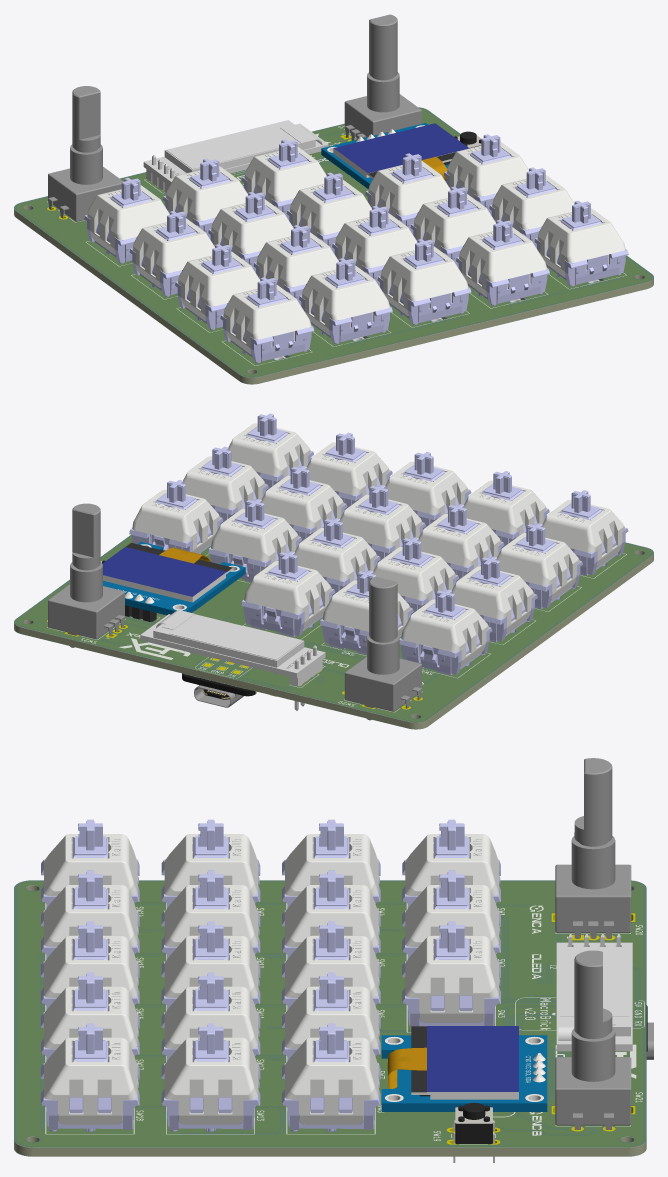
File: MacroBoard_v2.0.glb
The picture shows the model from 3 angles, top to bottom: view 1: azimuth 30°, elevation 25°; view 2: azimuth 150°, elevation 25°; view 3: azimuth 270°, elevation 25°; orthographic projection. The views are drawn at different scales.
Visible parts, largest first — view 1: Lid:1 (×18), =>[0:1:1:76], Stem:1 (×18), =>[0:1:1:73], =>[0:1:1:11] (×2), Housing:1 (×8), =>[0:1:1:78], =>[0:1:1:15], screen:1, board:1, =>[0:1:1:74]; view 2: Lid:1 (×18), =>[0:1:1:76], Stem:1 (×17), =>[0:1:1:73], =>[0:1:1:11] (×2), Housing:1 (×8), =>[0:1:1:15], =>[0:1:1:78], screen:1, board:1, =>[0:1:1:74], type-c v2:1 (+1 smaller); view 3: Lid:1 (×18), =>[0:1:1:76], =>[0:1:1:73], Stem:1 (×18), =>[0:1:1:11] (×2), =>[0:1:1:78], screen:1, Housing:1 (×4), =>[0:1:1:15], board:1, =>[0:1:1:74], =>[0:1:1:13] (+1 smaller).
Part boxes in pixels (box(x1,y1,x2,y2)): Lid:1 (×18): box(87, 141, 625, 354); =>[0:1:1:76]: box(14, 107, 653, 377); Stem:1 (×18): box(110, 134, 601, 307); =>[0:1:1:73]: box(17, 109, 650, 376); =>[0:1:1:11] (×2): box(48, 14, 421, 221); Housing:1 (×8): box(84, 215, 628, 363); =>[0:1:1:78]: box(14, 108, 653, 384); =>[0:1:1:15]: box(143, 120, 328, 192); screen:1: box(333, 123, 469, 178); board:1: box(321, 123, 448, 188); =>[0:1:1:74]: box(47, 125, 626, 365); Lid:1 (×18): box(132, 423, 625, 666); =>[0:1:1:76]: box(14, 534, 653, 722); Stem:1 (×17): box(155, 413, 601, 619); =>[0:1:1:73]: box(17, 537, 650, 720); =>[0:1:1:11] (×2): box(48, 503, 421, 720); Housing:1 (×8): box(129, 517, 628, 675); =>[0:1:1:15]: box(140, 610, 325, 710); =>[0:1:1:78]: box(14, 535, 653, 729); screen:1: box(102, 542, 232, 602); board:1: box(103, 542, 245, 615); =>[0:1:1:74]: box(47, 553, 626, 712); type-c v2:1: box(194, 685, 243, 707); Lid:1 (×18): box(44, 834, 498, 1124); =>[0:1:1:76]: box(14, 880, 646, 1147); =>[0:1:1:73]: box(17, 882, 642, 1145); Stem:1 (×18): box(73, 819, 469, 1062); =>[0:1:1:11] (×2): box(555, 758, 631, 1129); =>[0:1:1:78]: box(14, 881, 646, 1156); screen:1: box(411, 1026, 518, 1099); Housing:1 (×4): box(41, 961, 500, 1131); =>[0:1:1:15]: box(556, 933, 632, 1051); board:1: box(381, 1035, 547, 1111); =>[0:1:1:74]: box(45, 903, 644, 1144); =>[0:1:1:13]: box(453, 1102, 494, 1162).
Bounding box in the file's own units: 0.1 × 0.033 × 0.1012.
